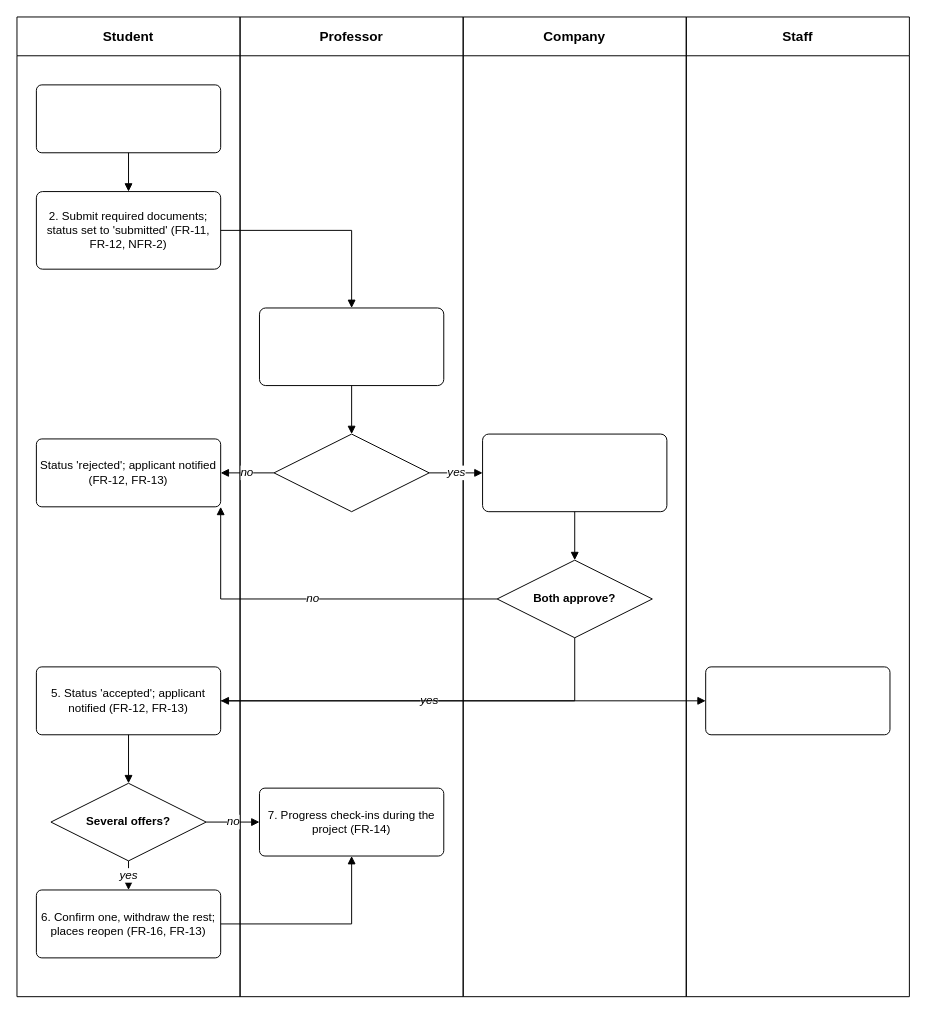
Image size: 926x1014. Some labels were removed from this diagram. The shapes that lost their labels are listed below. From the top down, each one's centre as x and y in pixels, then its label:
At pixel 128 118: "1. Browse listings with full detail and deadline (FR-11)".
At pixel 351 346: "3. Review application; documents visible only to the reviewers (NFR-2)".
At pixel 351 472: "Shortlist?".
At pixel 574 472: "4. Company reviews the shortlisted applicant (FR-15, NFR-2)".
At pixel 797 700: "Status visible on the master dashboard (FR-17)".
